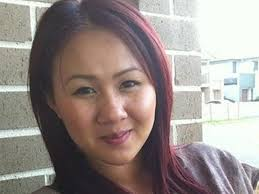asian_female: (29, 4, 175, 155)
